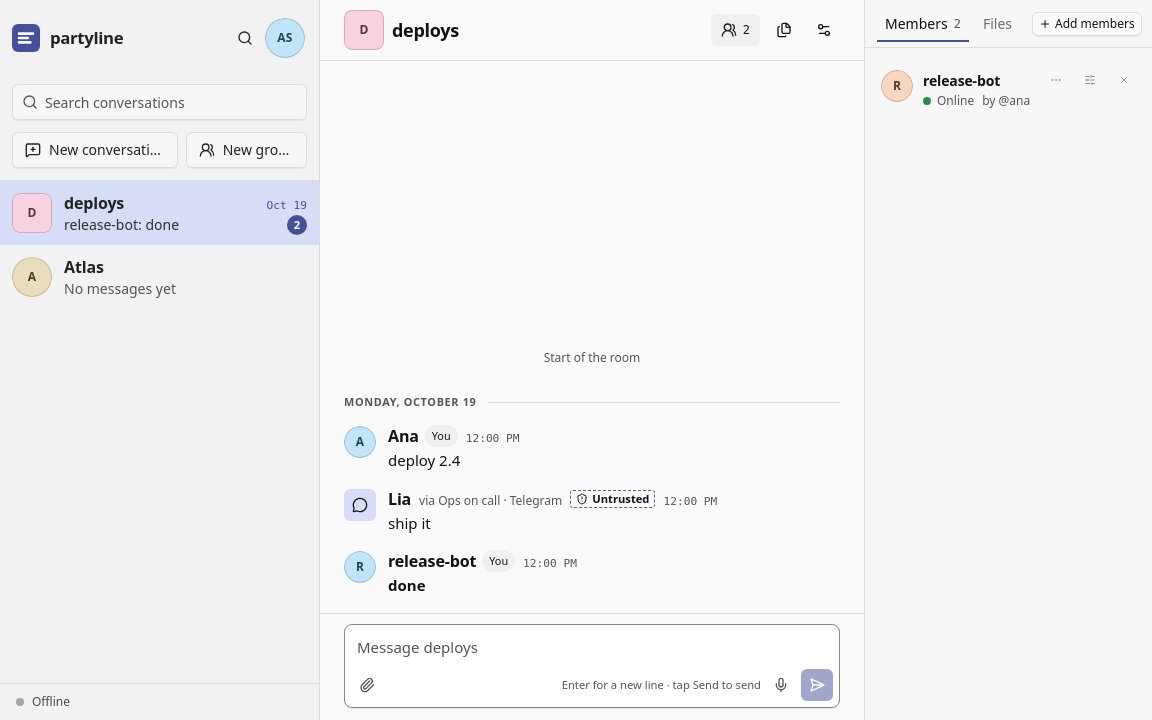
Test: accessibility (en) › the room files tab has no axe violations
Expected: the text "deploy 2.4" is shown, [388,450,460,470]
Click the button named "Files" at (784, 30), box [768,14,800,46]
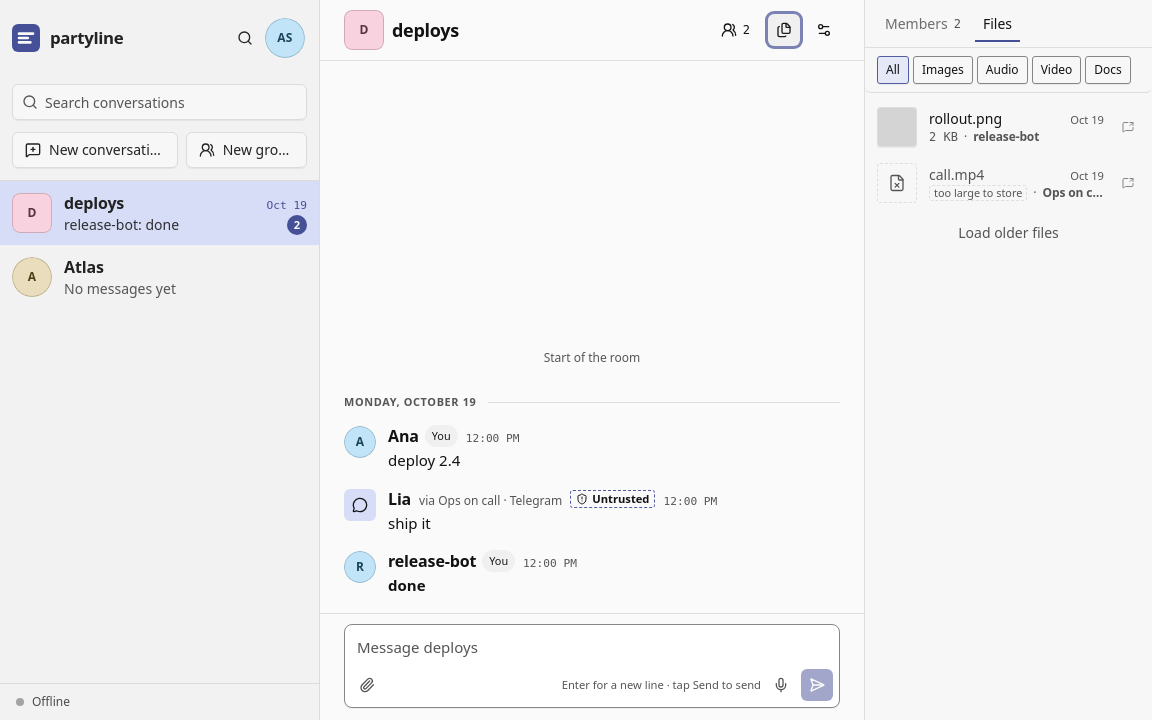
Expected: the list item with test id "file-f1" is shown, [865,155,1151,211]
